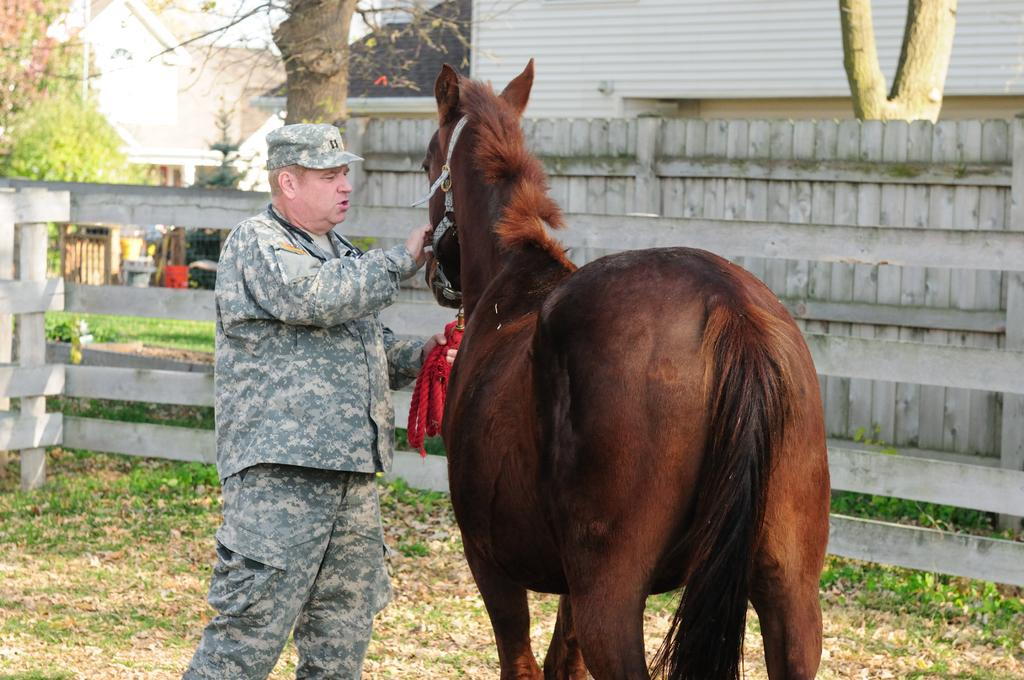Hat: (262, 118, 366, 172)
